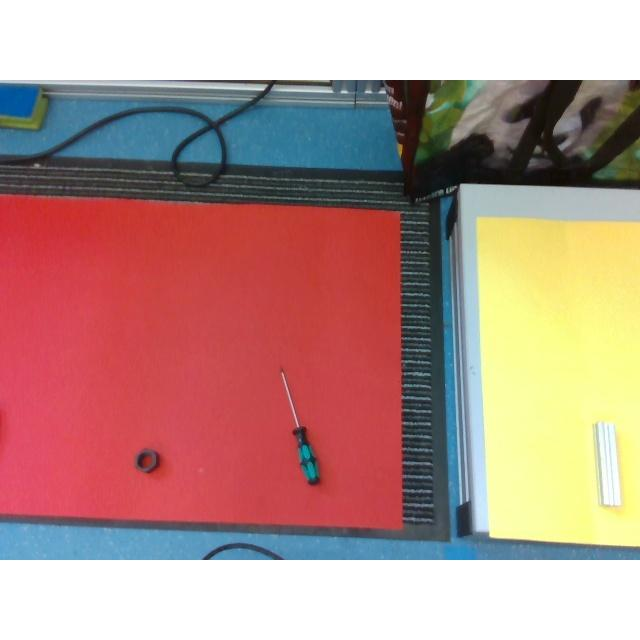F20_20_G: (595, 421, 621, 504)
M20: (136, 448, 160, 472)
Screwdriver: (276, 364, 322, 488)
